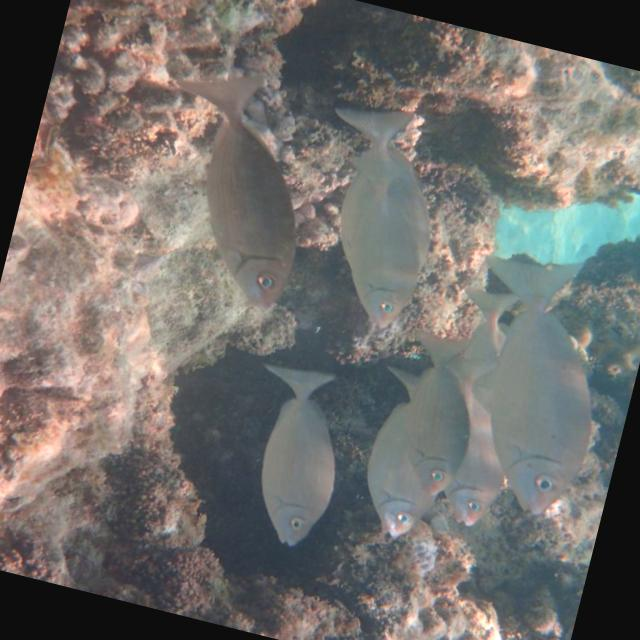Sokar Baligi: (417, 235, 640, 532), (281, 88, 468, 332), (216, 346, 378, 563)
